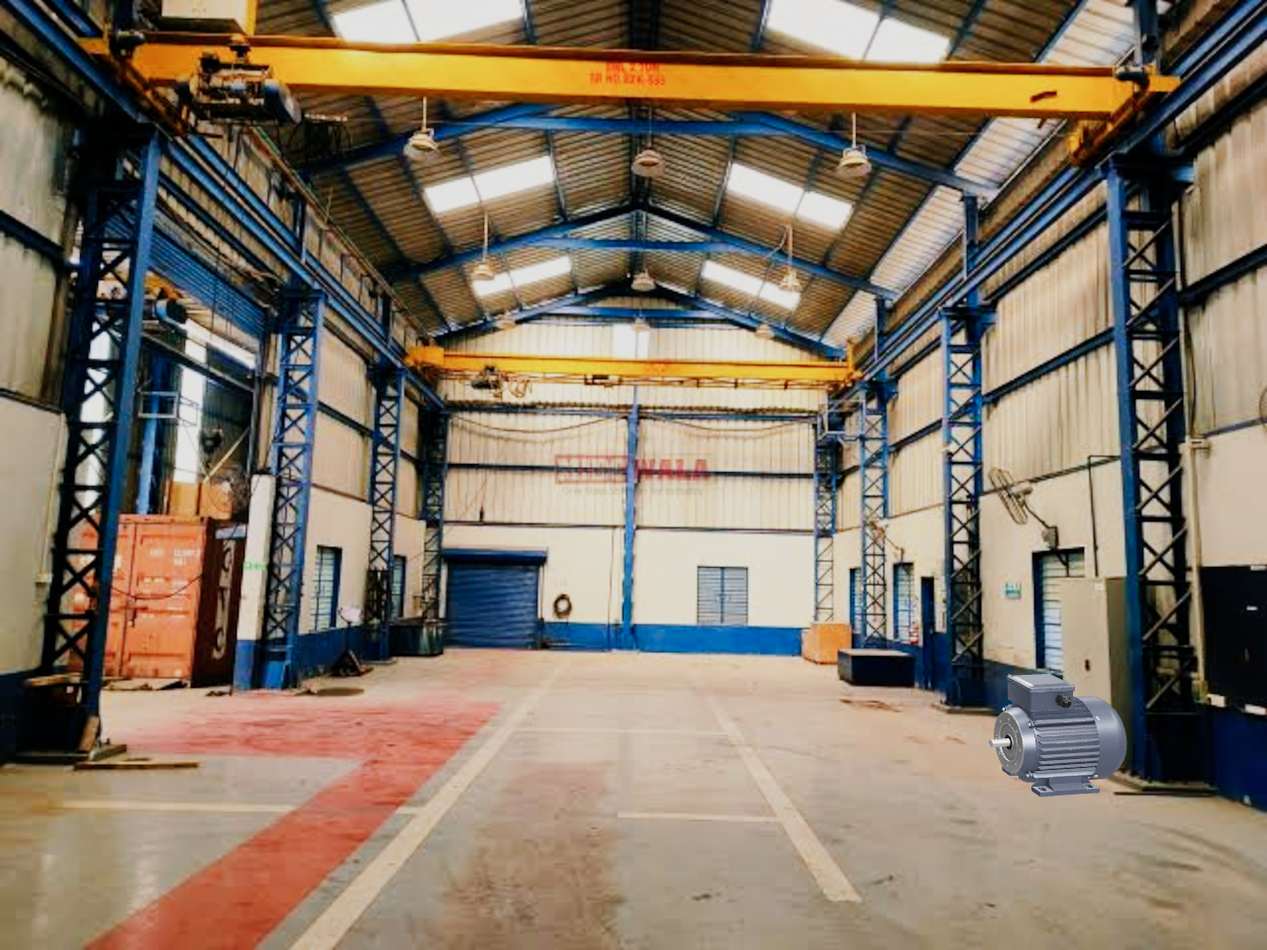ElectroMotor: (989, 673, 1127, 797)
